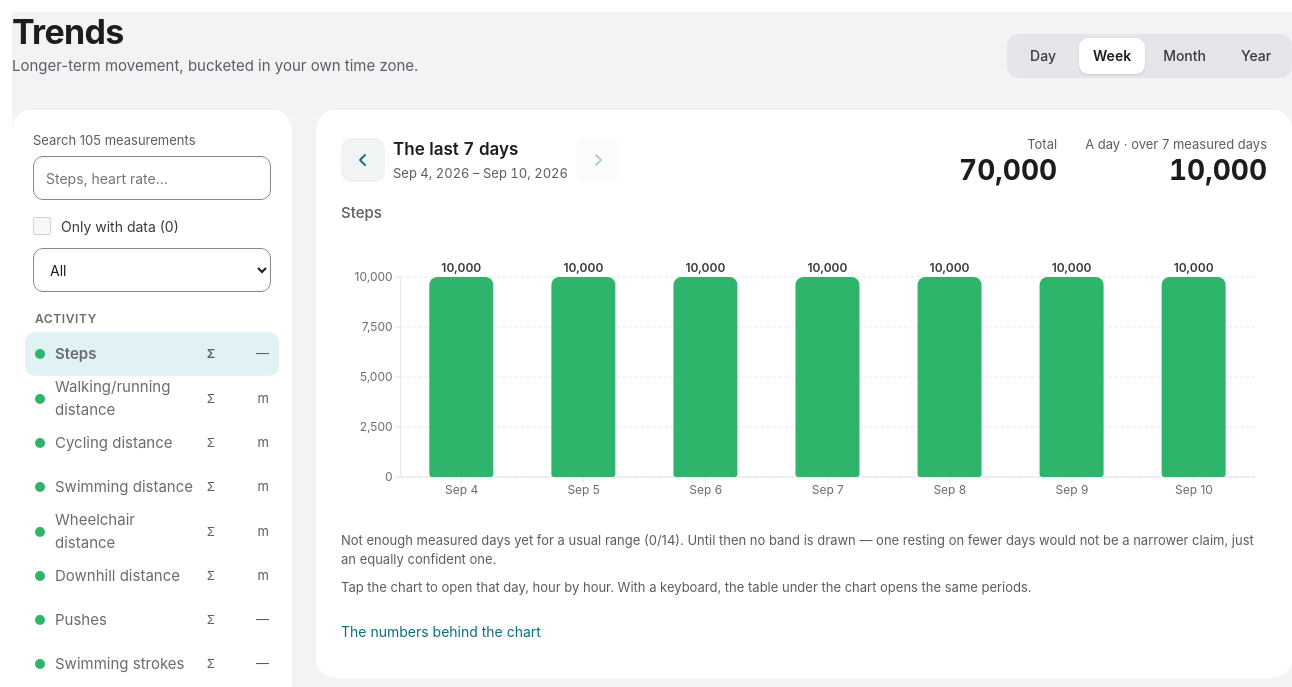
Test: the chart without a mouse › says a new period is loading without fading the chart
The image size is (1292, 687).
Click the button "Year" at (1256, 56), box [1224, 38, 1288, 74]
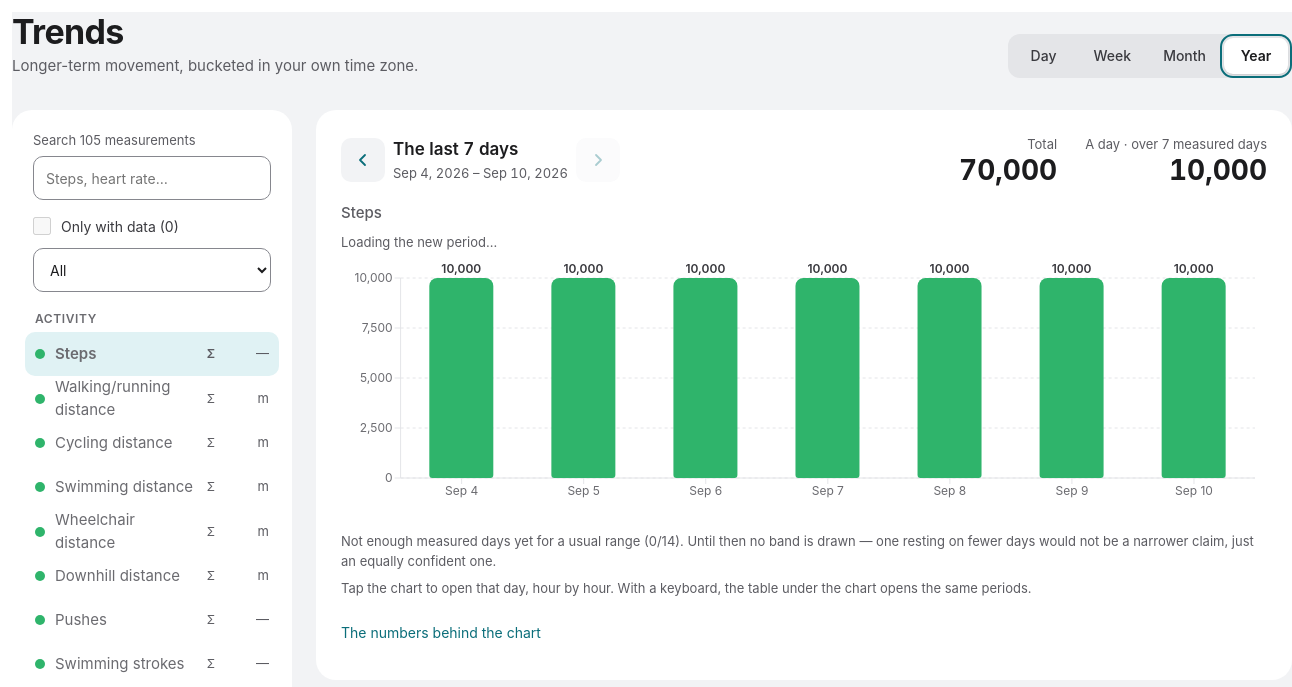
expect the message reads "Loading the new period…": met, box [341, 234, 497, 250]
